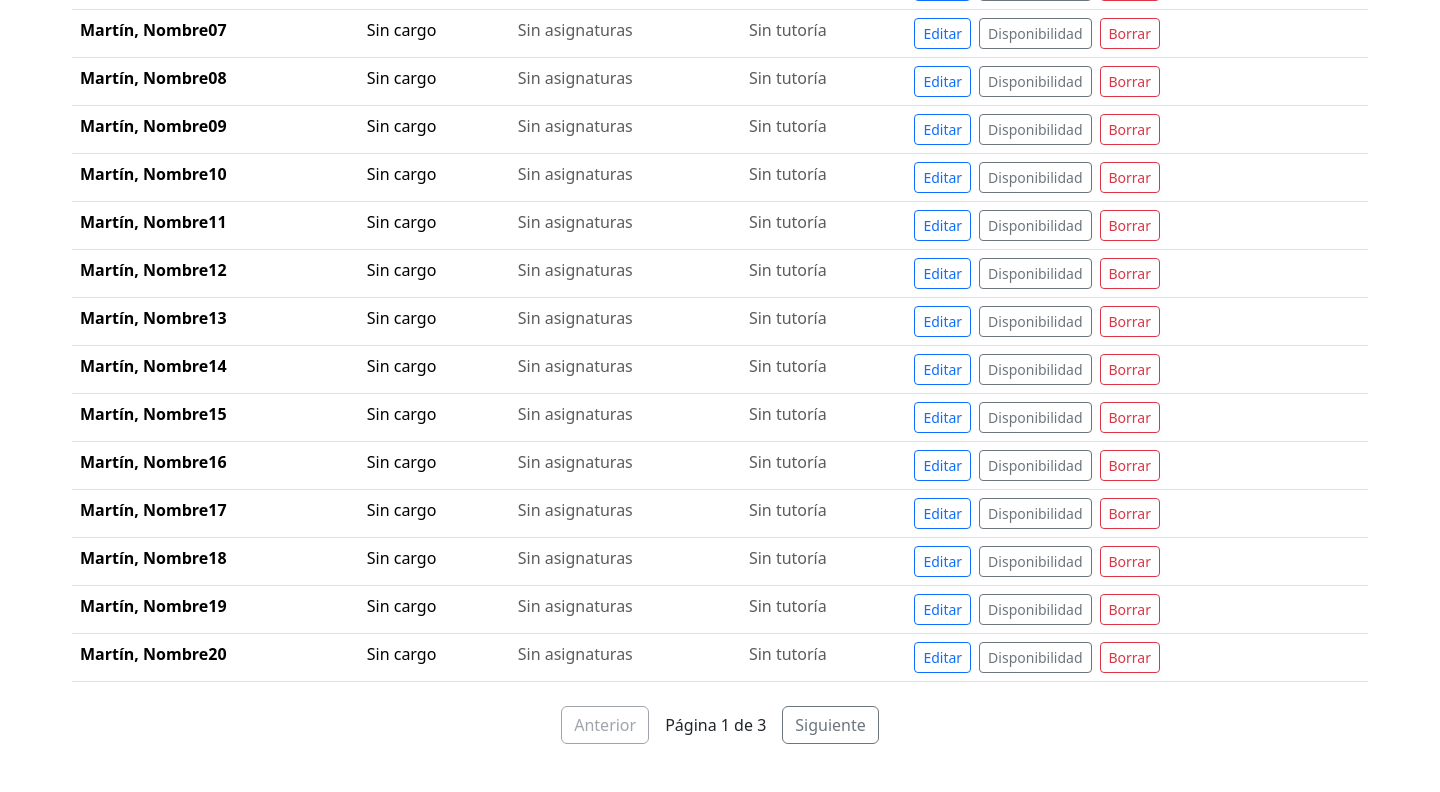
Test: ProfessorsPage › search on a wide screen › paginates the result and goes back to the first page when the query changes
(page scrolled)
Click the button "Siguiente" at (831, 725), box left=782, top=706, right=879, bottom=744
(page scrolled)
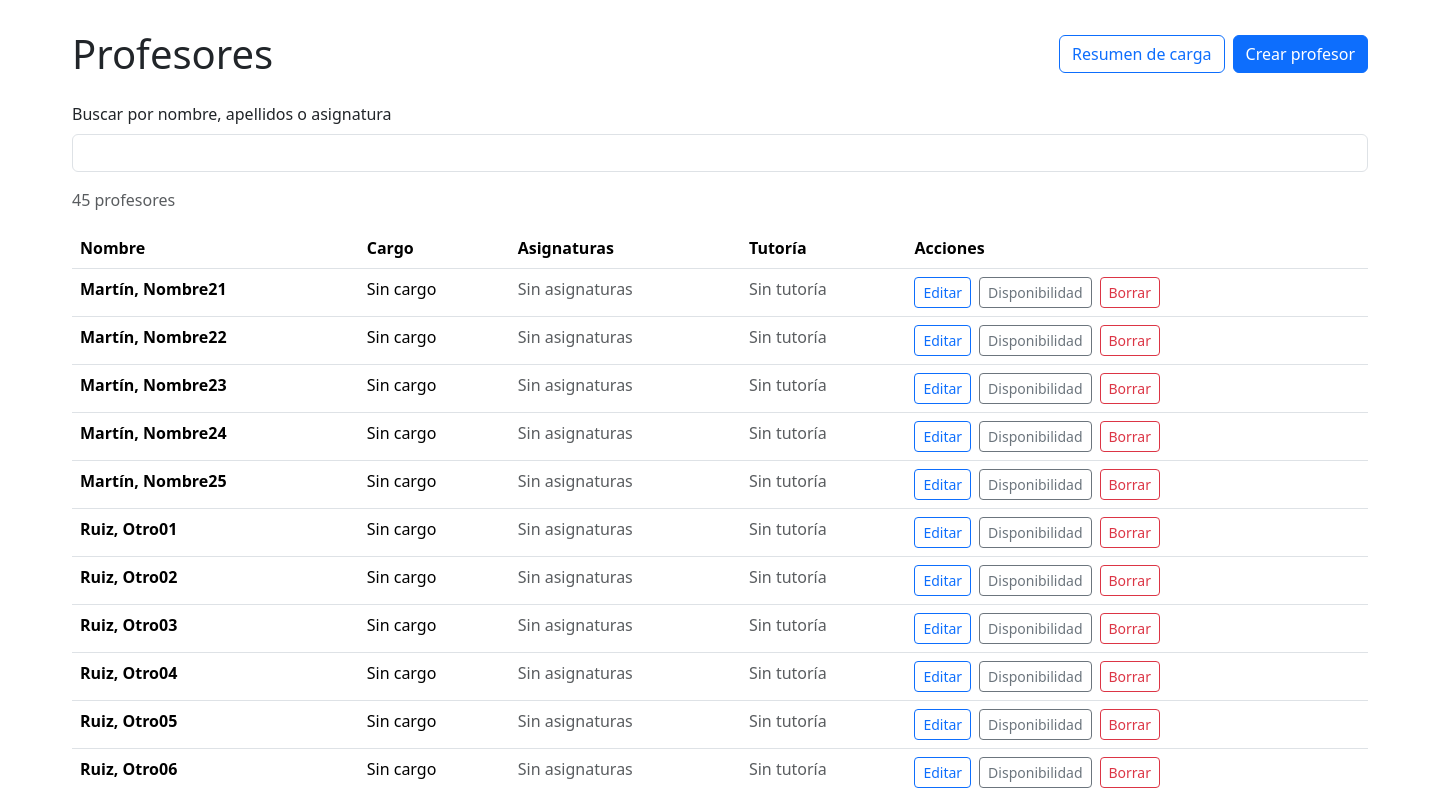
Type "martin" into the search field labelled "Buscar por nombre, apellidos o asignatura" at (720, 153), box left=72, top=134, right=1368, bottom=172
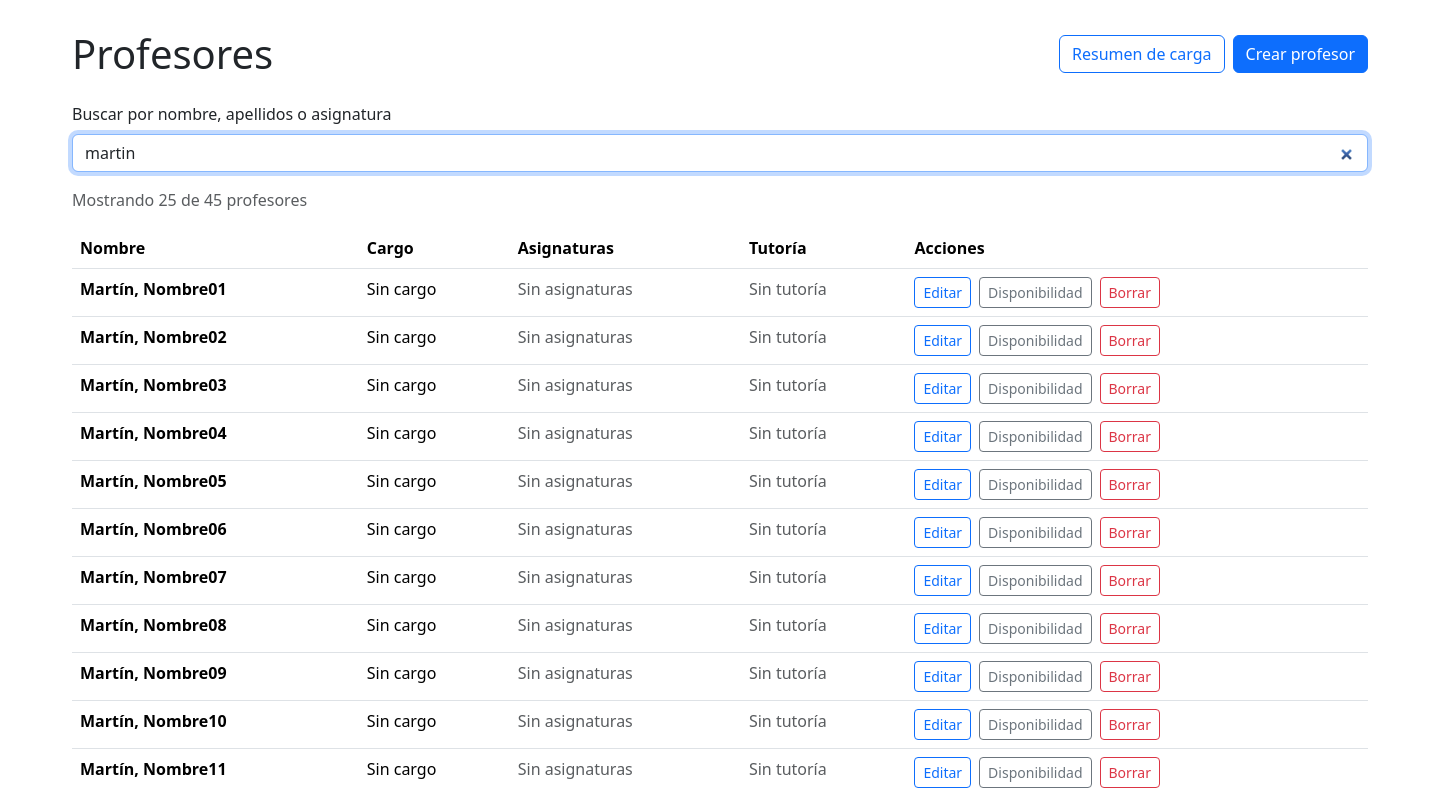
Check: the column heading "Martín, Nombre01" is shown, box left=72, top=268, right=359, bottom=316
Check: the message with test id "professors-count" reads "Mostrando 25 de 45 profesores", box left=72, top=189, right=307, bottom=211
